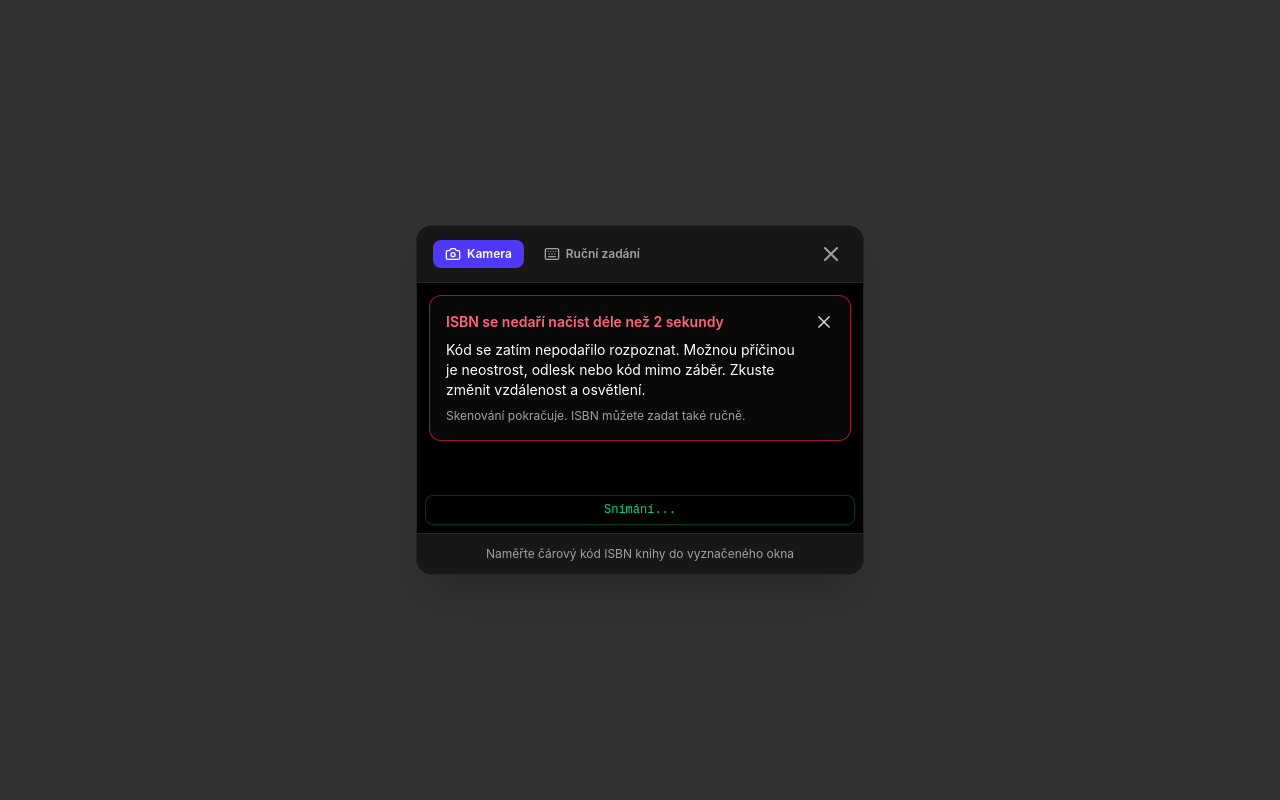
camera scanner › shows a dismissible warning after two seconds of scanning without stopping the camera
Check: the message shows "Možnou příčinou", box [446,341,795,398]
What coordinates should you click on to do the following:
click the button named "Zavřít upozornění"
I would click on:
 (824, 322)
Its box is [806,304,842,340].
Wait 4000 ms
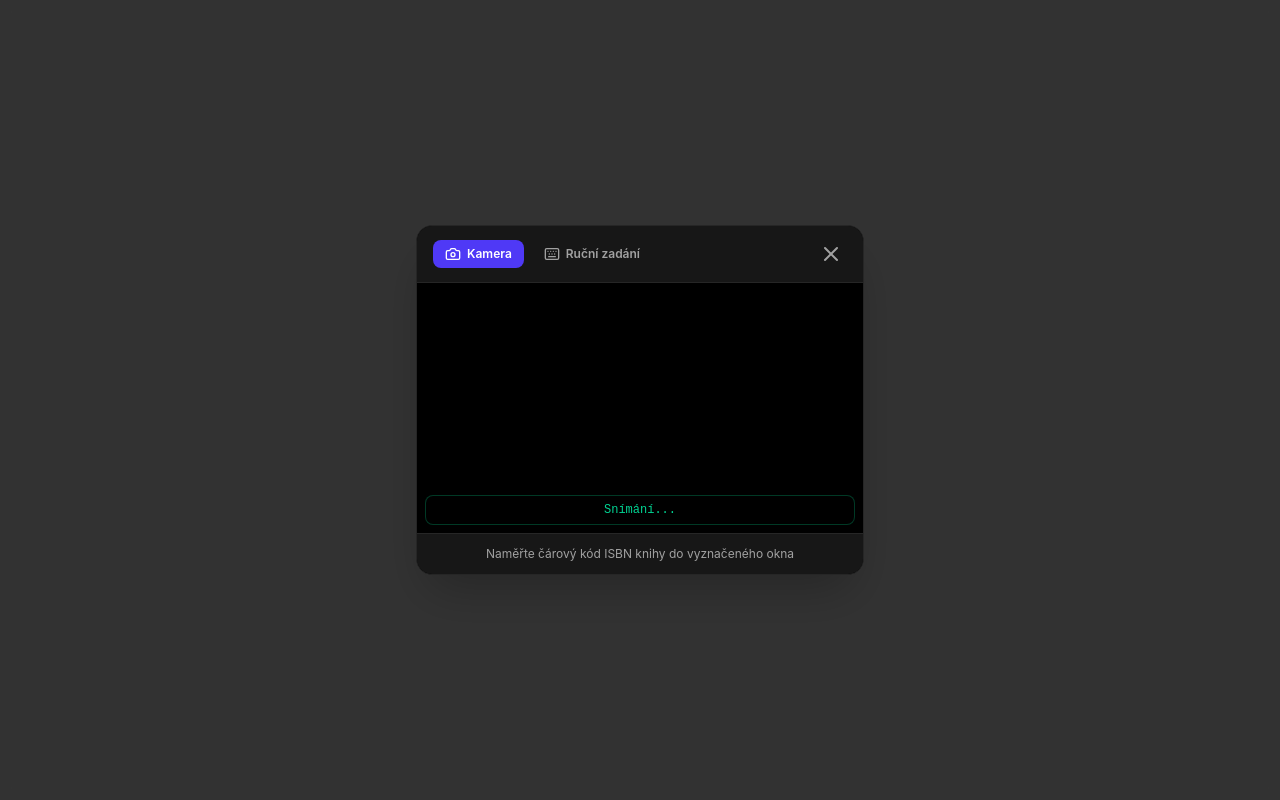
Check: the message is gone
